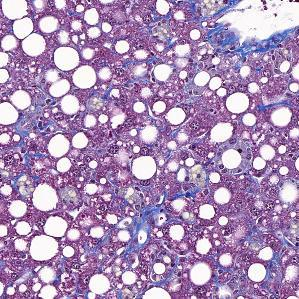fibrosis: (207, 33, 285, 71), (125, 203, 176, 248)
